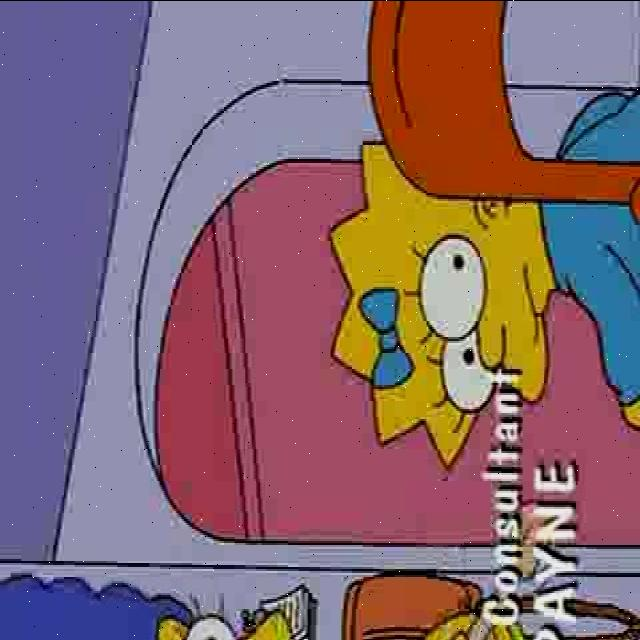Maggie Simpson: (326, 131, 564, 473)
Marge Simpson: (0, 569, 304, 639)
